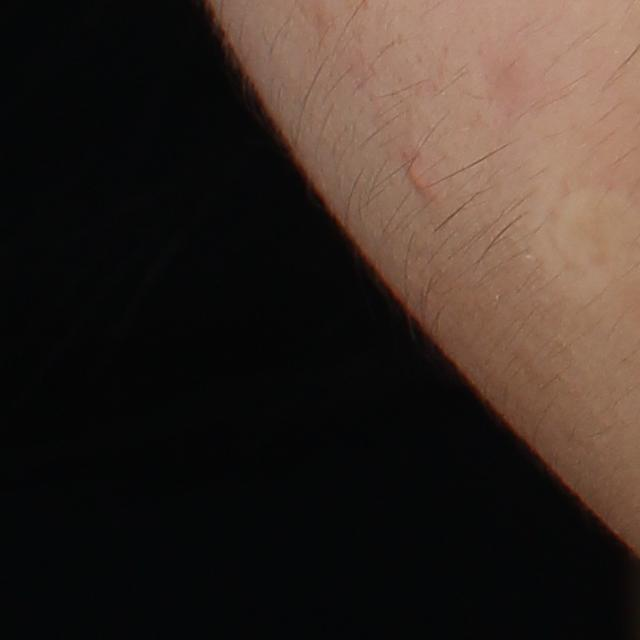papule: (399, 158, 437, 198)
